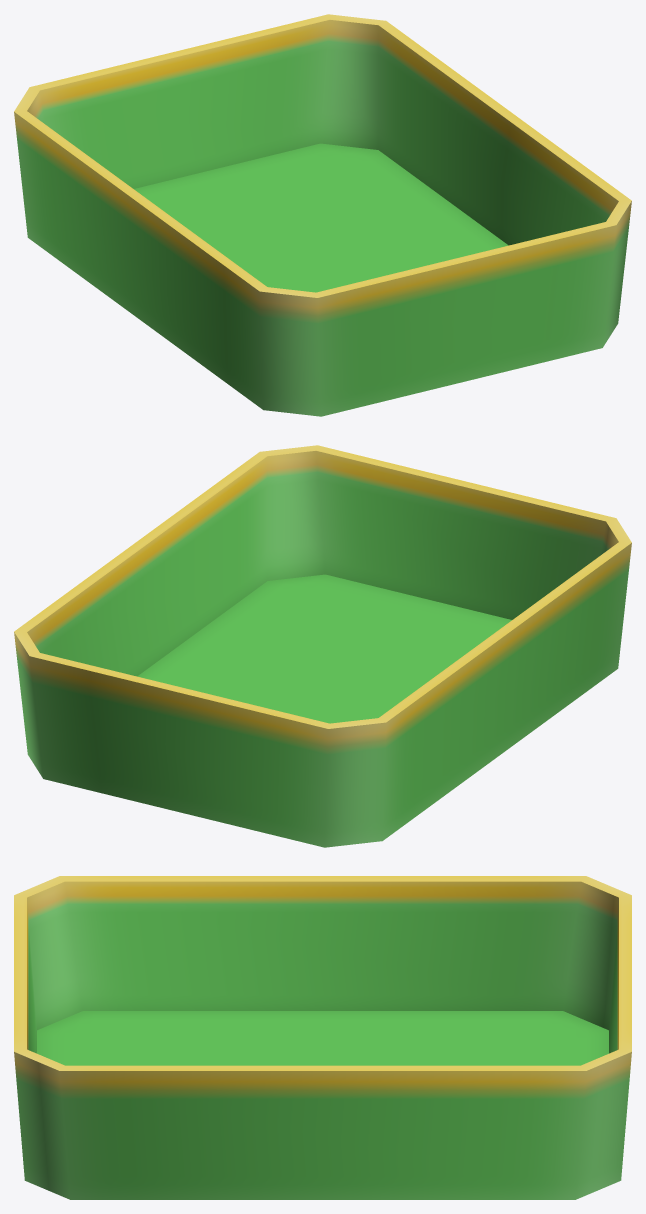
File: jsf_Bat_05.fbx
The picture shows the model from 3 angles, top to bottom: view 1: azimuth 30°, elevation 25°; view 2: azimuth 150°, elevation 25°; view 3: azimuth 270°, elevation 25°; orthographic projection. The views are drawn at different scales.
Parts seen in each view (by area): view 1: jsf_Bat_05; view 2: jsf_Bat_05; view 3: jsf_Bat_05.
Boxes of the visible parts, x1=… form: jsf_Bat_05: x1=14, y1=14, x2=631, y2=416; jsf_Bat_05: x1=14, y1=445, x2=631, y2=847; jsf_Bat_05: x1=14, y1=876, x2=631, y2=1199.
Bounding box in the file's own units: 12.65 × 4.04 × 16.95.
